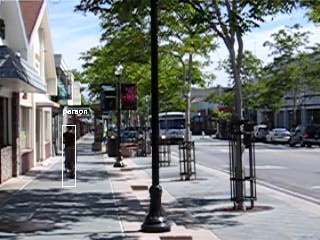person: (62, 124, 81, 181), (61, 124, 80, 181), (63, 124, 82, 181), (62, 123, 81, 180), (62, 125, 81, 182)
target_negative: (44, 21, 230, 127), (249, 34, 298, 223), (247, 38, 320, 114), (9, 183, 130, 190), (103, 18, 106, 160), (89, 13, 104, 17)
